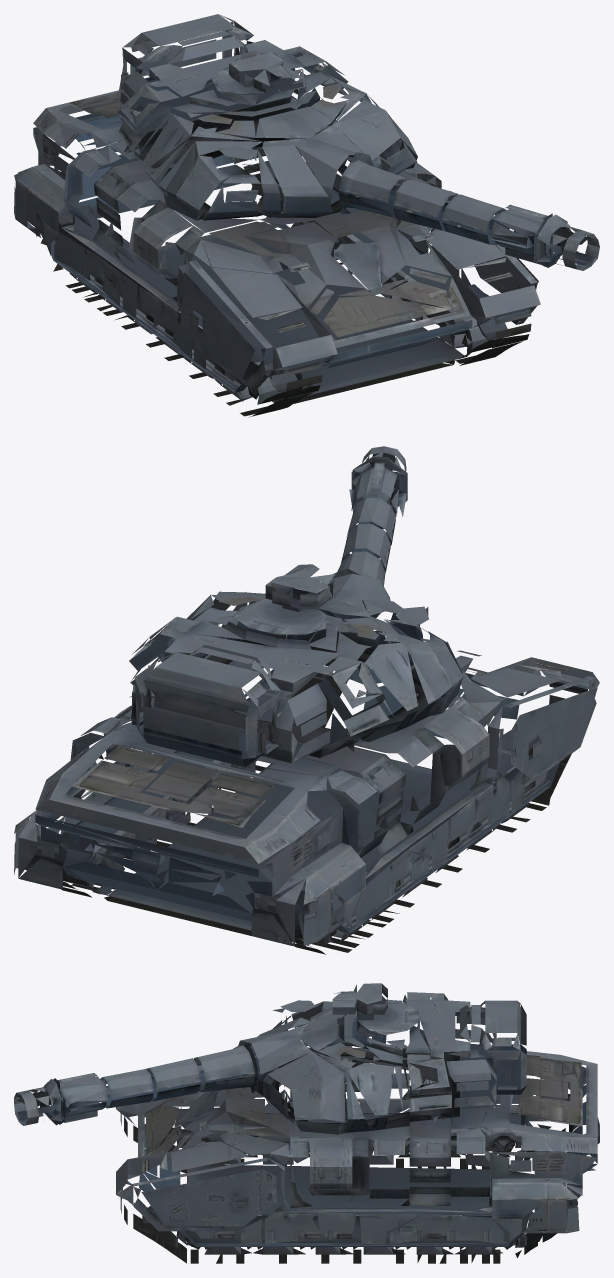
Rendered from devastator_LOD2.glb.
3 renders of one model, top to bottom at view 1: azimuth 30°, elevation 25°; view 2: azimuth 150°, elevation 25°; view 3: azimuth 270°, elevation 25°, orthographic. The views are drawn at different scales.
Visible parts, largest first — view 1: devastator_LOD2; view 2: devastator_LOD2; view 3: devastator_LOD2.
Part boxes in pixels (<box>): devastator_LOD2: <box>14,14,599,417</box>; devastator_LOD2: <box>14,446,599,954</box>; devastator_LOD2: <box>14,983,599,1263</box>.
Bounding box in the file's own units: 0.4951 × 0.4071 × 1.
1 material, 1 textured.
